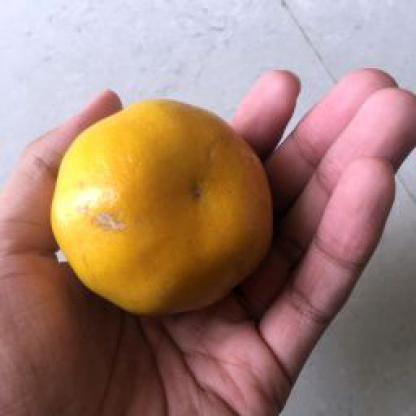orange: (46, 101, 276, 317)
